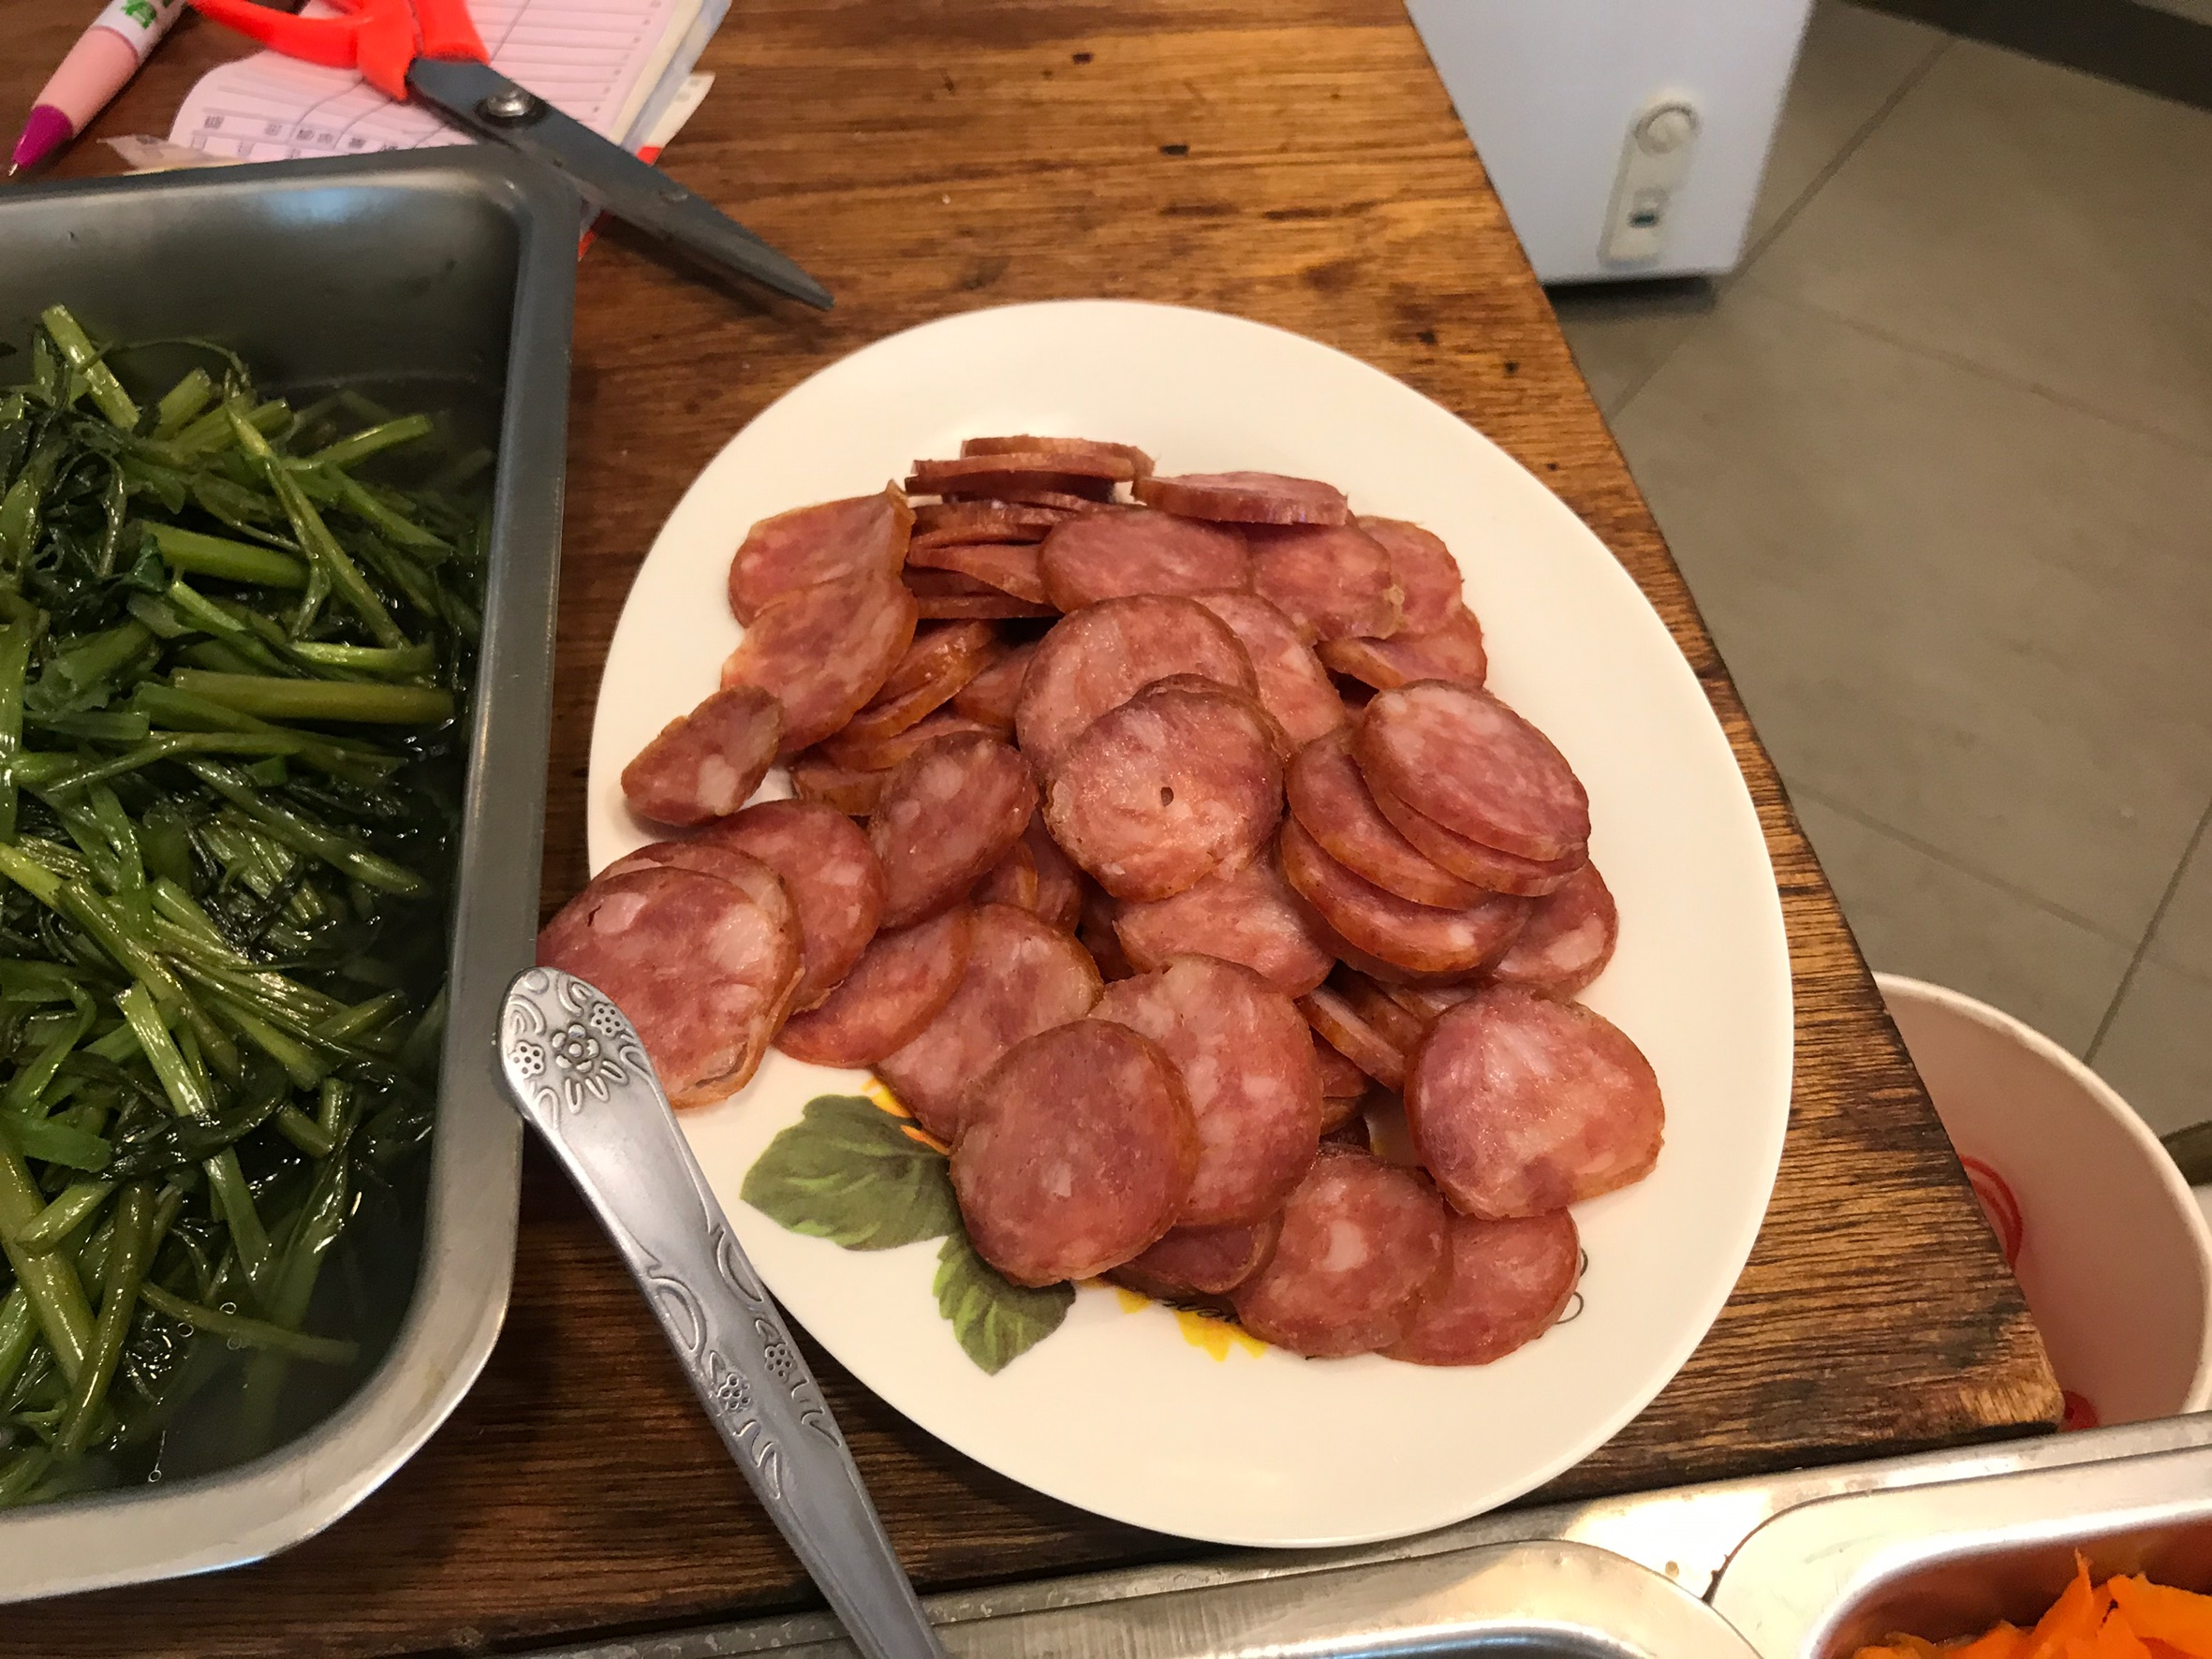chinese_sausage: (797, 495, 1618, 1263)
water_spinach: (2, 385, 425, 1251)
